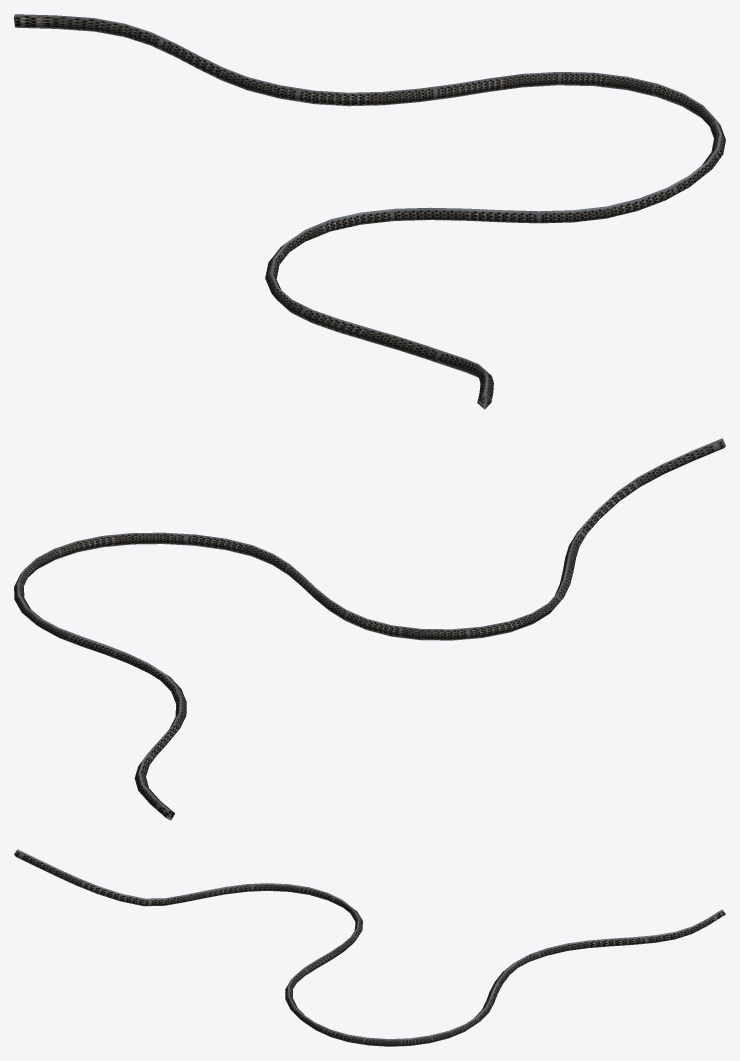
Rendered from Hose_A.fbx.
3 renders of one model, top to bottom at view 1: azimuth 30°, elevation 25°; view 2: azimuth 150°, elevation 25°; view 3: azimuth 270°, elevation 25°, orthographic. The views are drawn at different scales.
Visible parts, largest first — view 1: extrudedSurface1; view 2: extrudedSurface1; view 3: extrudedSurface1.
Boxes of the visible parts, x1,y1,x2,y2 form: extrudedSurface1: (14, 14, 725, 409); extrudedSurface1: (14, 438, 725, 820); extrudedSurface1: (14, 849, 725, 1046).
Size of the model in its own units: 23.34 by 2.72 by 43.66.
